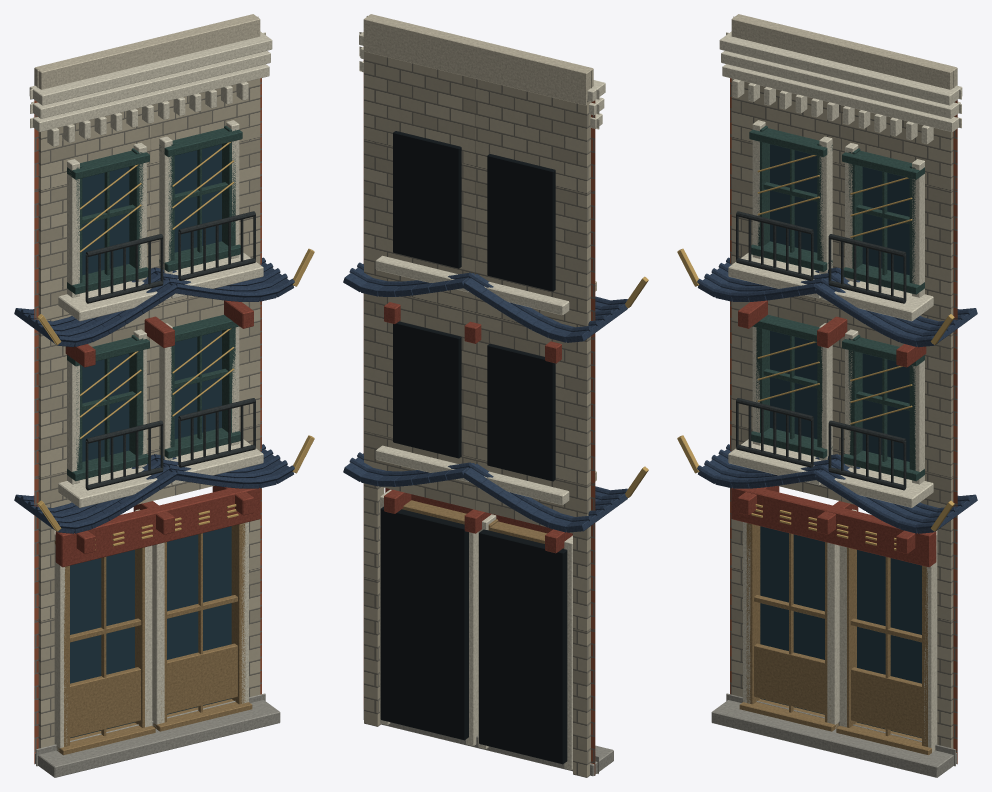
File: CHINA17_lod1.glb
3 views of the same model, side by side, from view 1: azimuth 30°, elevation 25°; view 2: azimuth 150°, elevation 25°; view 3: azimuth 330°, elevation 25° (orthographic).
Parts seen in each view (by area): view 1: CHINA17_FRONT_LOD1; view 2: CHINA17_FRONT_LOD1; view 3: CHINA17_FRONT_LOD1.
Boxes of the visible parts, x1=… form: CHINA17_FRONT_LOD1: x1=14, y1=14, x2=314, y2=777; CHINA17_FRONT_LOD1: x1=343, y1=14, x2=648, y2=777; CHINA17_FRONT_LOD1: x1=677, y1=14, x2=977, y2=777.
Size of the model in its own units: 4.01 by 9.66 by 1.14.
14 materials, 11 textured.
